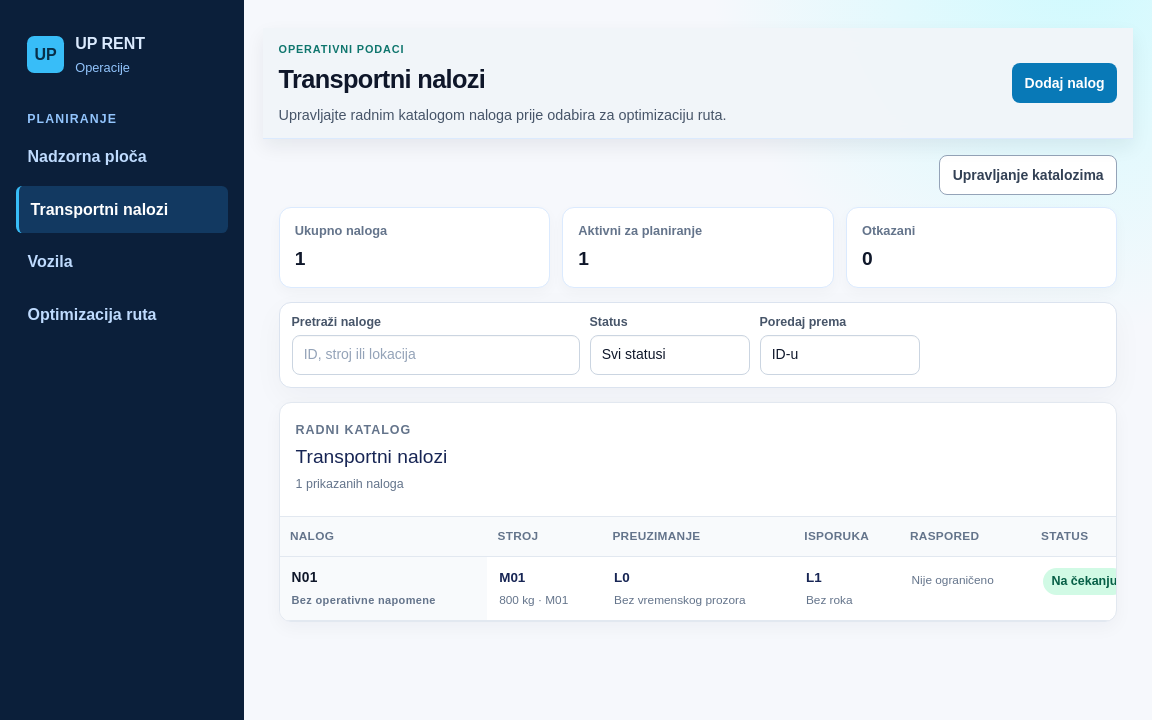
Test: OrderManagement › edits catalog records and blocks deletion while a live order references them
Expected: the element named "Tablica transportnih naloga" is shown, [278,402,1117,622]
Click the button "Upravljanje katalozima" at coordinates (1028, 175), box [939,155,1117,195]
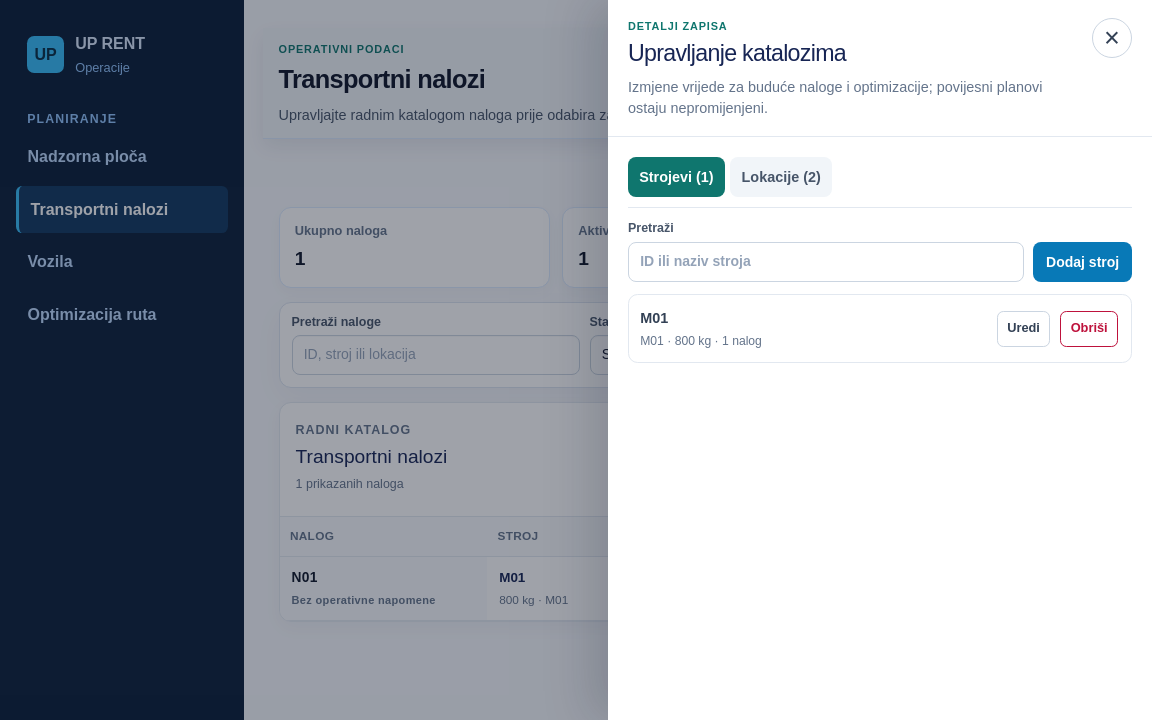
Expected: the dialog "Upravljanje katalozima" is shown, [608,0,1151,719]
Click the button "Uredi" at coordinates (1024, 329), box [997,311,1050,347]
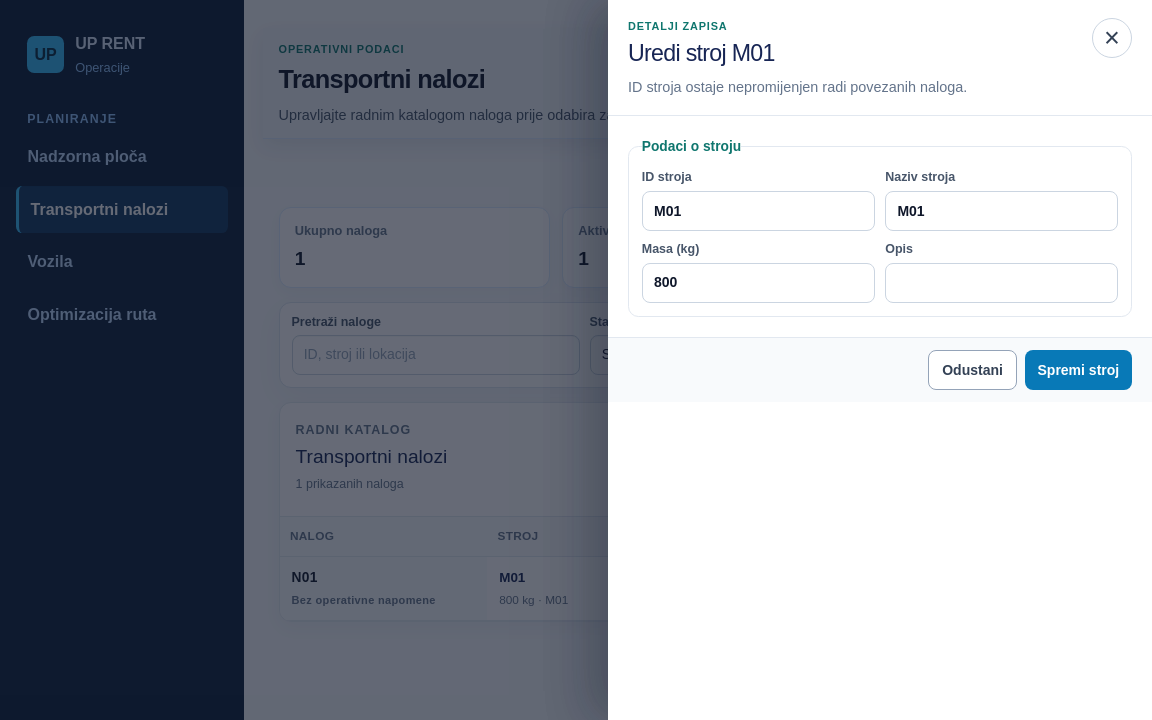
Replace the text in the field labelled "Naziv stroja" with "Bager ažuriran" at coordinates (1002, 212), box [885,192,1118,232]
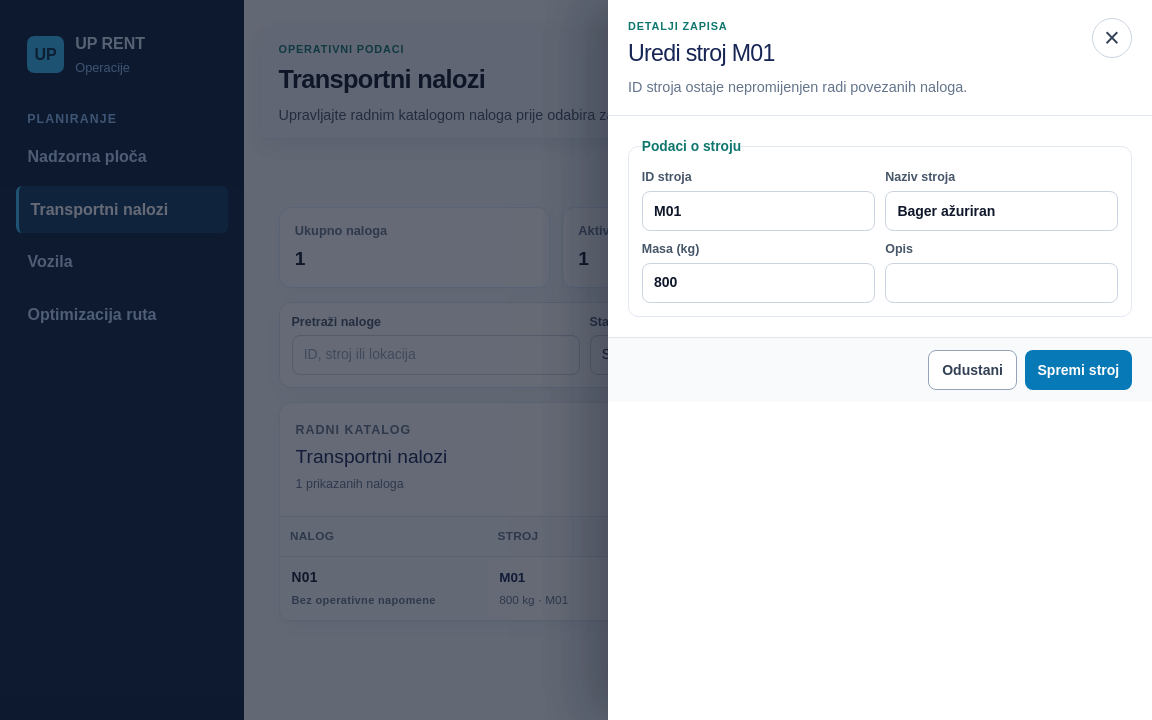
Replace the text in the number field labelled "Masa (kg)" with "1200" at coordinates (758, 283), box [642,263,875,303]
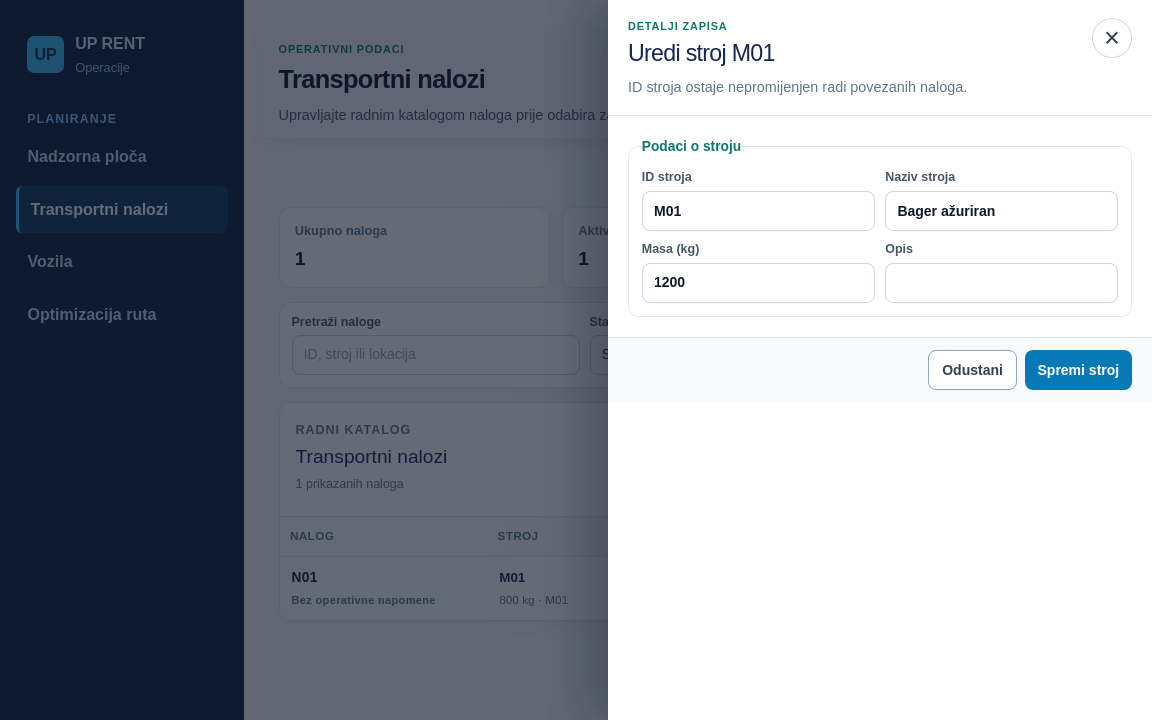
Click the button "Spremi stroj" at coordinates (1078, 370), box [1025,350,1132,390]
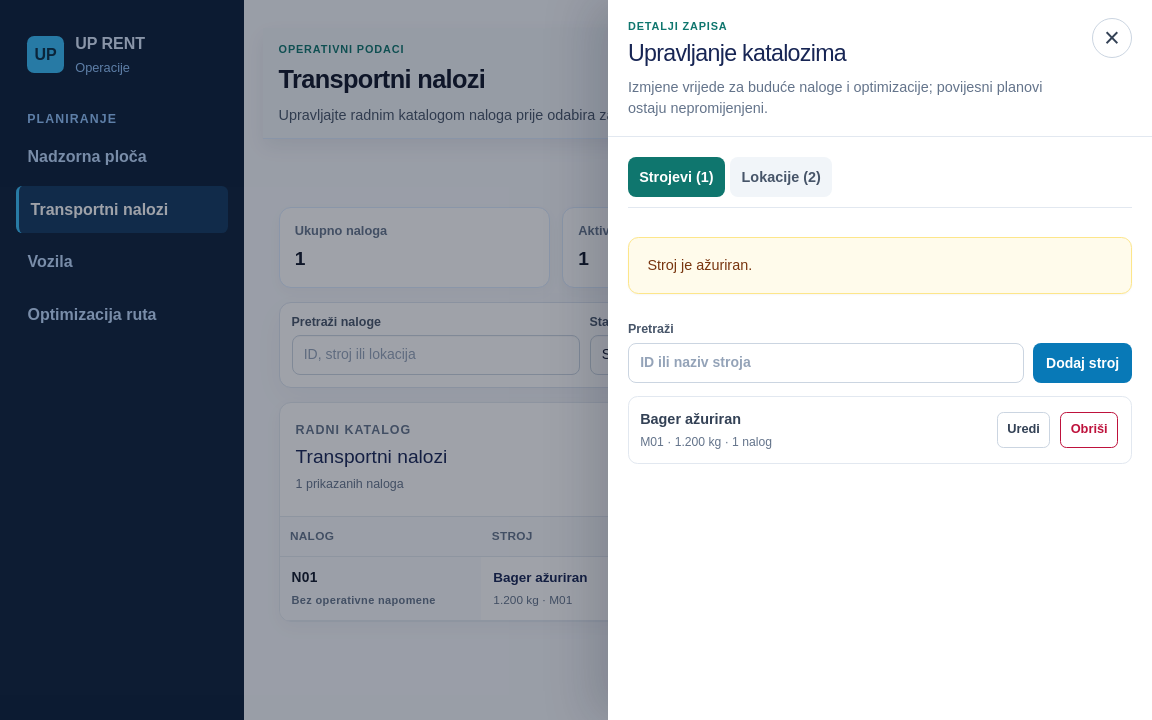
Expected: the text "Bager ažuriran" in the row of "N01" is shown, [493,570,588,585]
Expected: the text "M01 · 1.200 kg · 1 nalog" is shown, [640,433,772,452]
Click the button "Obriši" at coordinates (1089, 430), box [1060,412,1118,448]
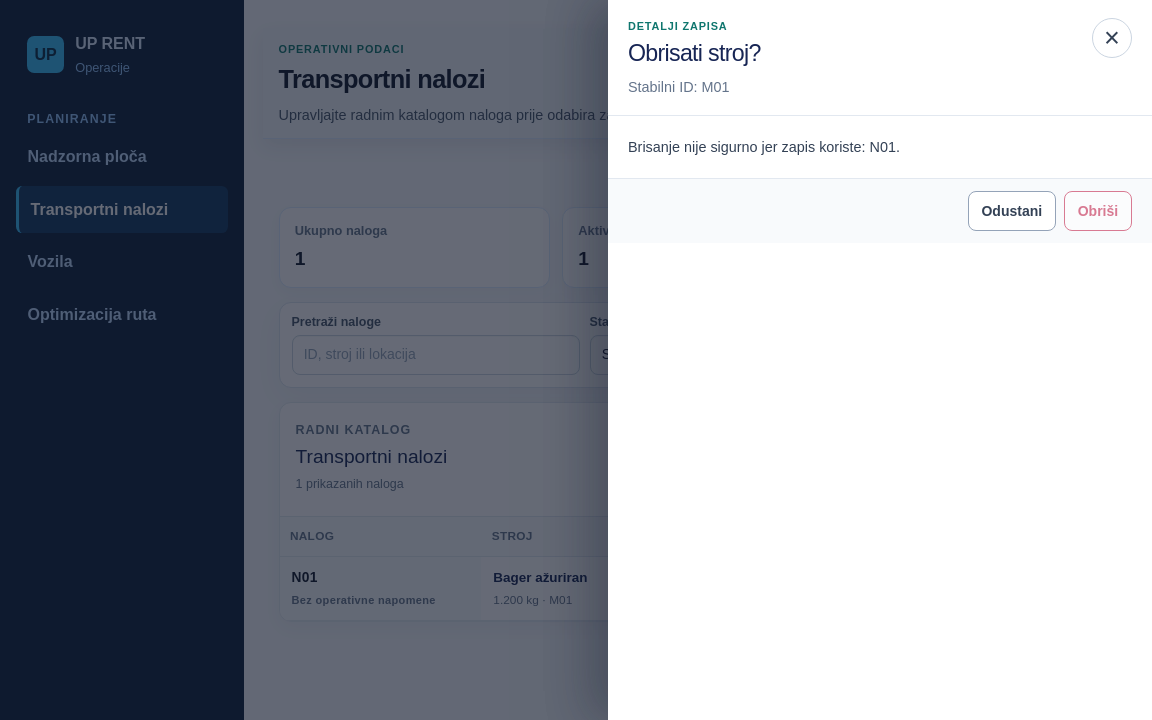
Expected: the button "Obriši" is disabled, [1064,192,1132,232]
